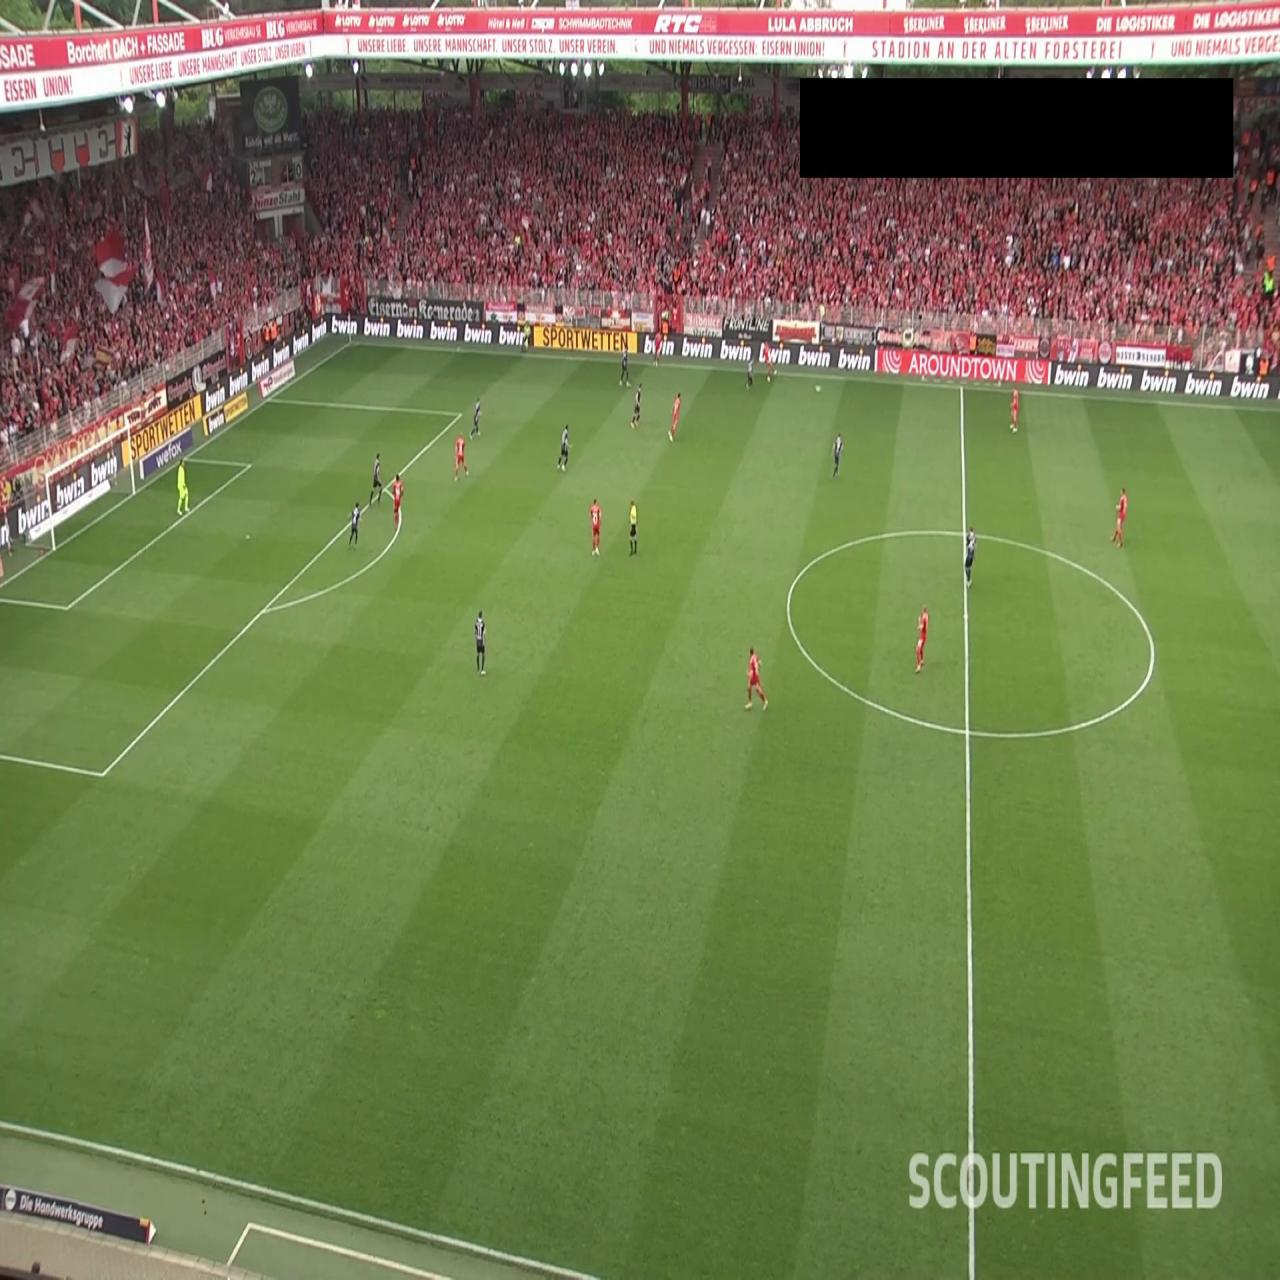ball: (814, 383, 821, 395)
goalkeeper: (176, 459, 190, 513)
player: (744, 646, 768, 711), (1111, 486, 1128, 547), (914, 604, 929, 672), (389, 472, 404, 533), (474, 609, 487, 676), (964, 524, 977, 588), (556, 423, 571, 474), (347, 500, 361, 552), (589, 497, 601, 557), (762, 339, 778, 384), (454, 434, 469, 481), (370, 452, 383, 506), (668, 391, 681, 442), (832, 431, 843, 479), (744, 355, 756, 395), (631, 384, 642, 427), (652, 327, 663, 369), (1010, 388, 1020, 432), (471, 400, 482, 438), (620, 345, 630, 386)
referee: (628, 498, 639, 556), (521, 318, 531, 355)
